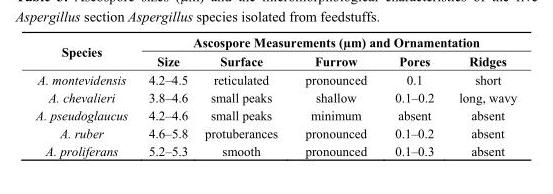table: (34, 34, 516, 157)
table column: (34, 34, 137, 157), (195, 34, 290, 157), (290, 34, 380, 157), (445, 34, 516, 157), (380, 34, 445, 157), (137, 34, 195, 157)
table column header: (34, 34, 516, 70)
table row: (34, 51, 516, 70), (34, 70, 516, 88), (34, 88, 516, 106), (34, 123, 516, 141), (34, 34, 516, 51), (34, 106, 516, 123), (34, 141, 516, 157)
table spanning cell: (137, 34, 516, 51), (34, 34, 137, 70)
